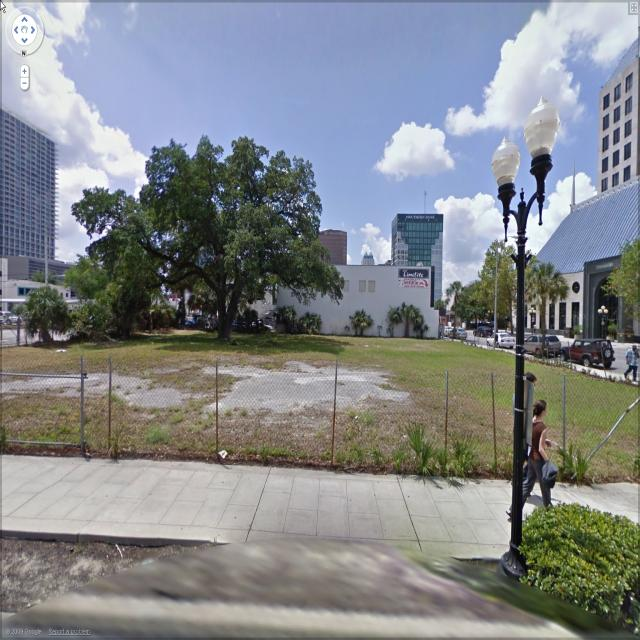b_1: (326, 260, 444, 341), (1, 115, 65, 262), (393, 203, 443, 314), (597, 66, 638, 186)
b_2: (497, 186, 638, 356), (172, 202, 282, 332)
